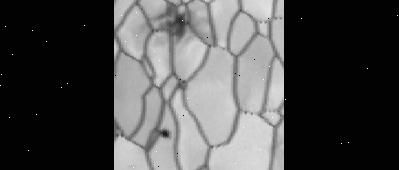good_void: (148, 0, 215, 56), (156, 124, 177, 140)
